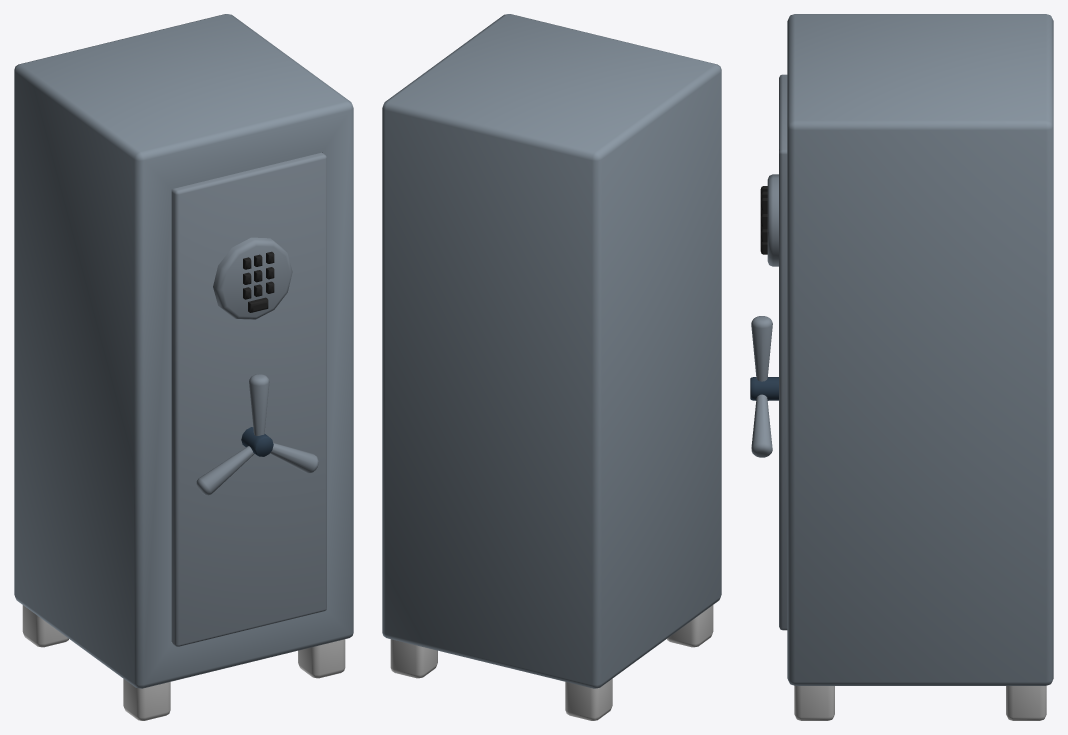
Rendered from Big-Safe.fbx.
The picture shows the model from 3 angles, left to right: view 1: azimuth 30°, elevation 25°; view 2: azimuth 150°, elevation 25°; view 3: azimuth 270°, elevation 25°; orthographic projection. The views are drawn at different scales.
Visible parts, largest first — view 1: Big-Safe, Big-Safe-Cover; view 2: Big-Safe; view 3: Big-Safe, Big-Safe-Cover.
Boxes of the visible parts, <box> form: Big-Safe: <box>14,14,353,720</box>; Big-Safe-Cover: <box>171,152,326,646</box>; Big-Safe: <box>382,14,721,720</box>; Big-Safe: <box>787,14,1053,720</box>; Big-Safe-Cover: <box>750,74,787,630</box>.
Size of the model in its own units: 0.5 by 1.25 by 0.5697.
